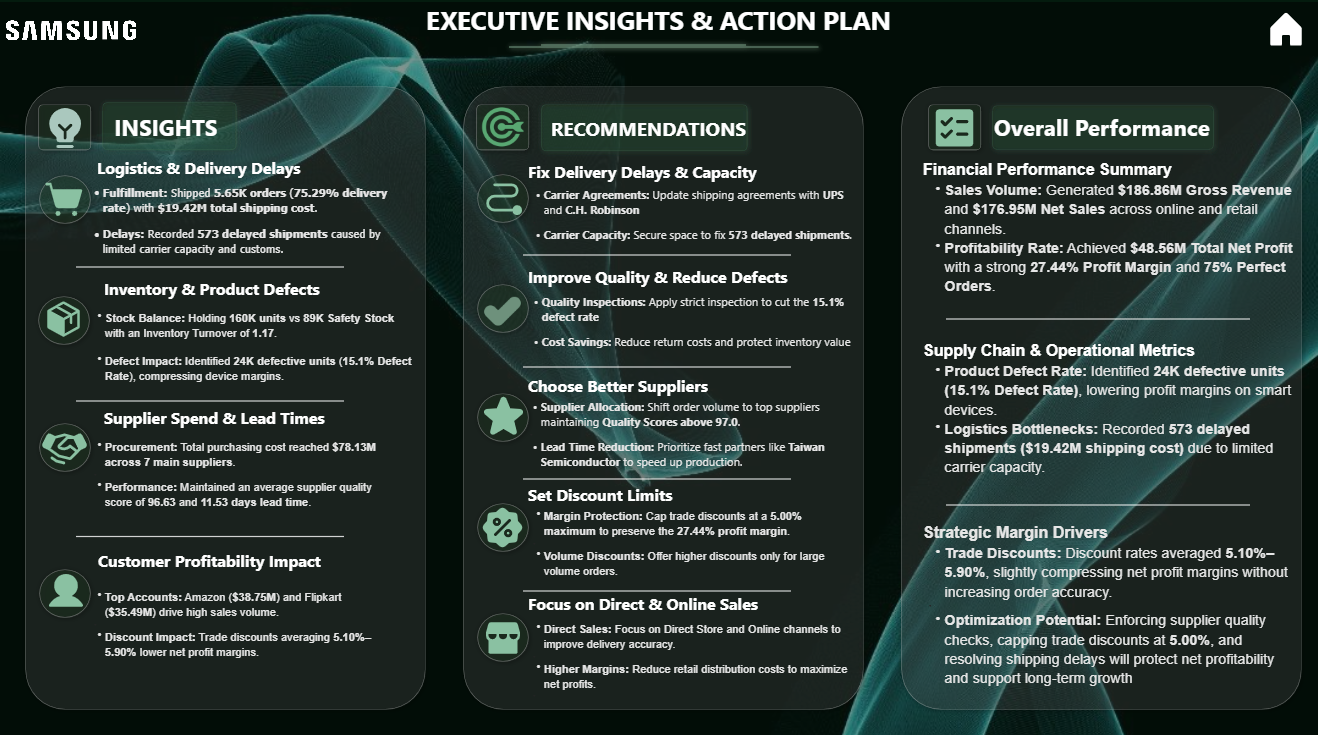

The page's visual inventory and layout, read from the dashboard file:
{"tool":"powerbi","page":{"name":"Insights","canvas":[2200,1235],"ordinal":6},"visuals":[{"type":"image","box":[0,11.7,2200,1223.3],"z":0},{"type":"image","box":[0,0,240,118.6],"z":1000},{"type":"textbox","box":[711.7,11.7,911.7,71.7],"z":2000},{"type":"shape","box":[841.7,11.7,532.9,150],"z":3000},{"type":"shape","box":[35,143.3,685,1056.7],"z":4000},{"type":"shape","box":[1495,143.3,685,1056.7],"z":5000},{"type":"shape","box":[765,143.3,685,1056.7],"z":6000},{"type":"shape","box":[56.5,172.9,105.7,94.3],"z":7000},{"type":"image","box":[70.8,176.7,76.7,90],"z":8000},{"type":"shape","box":[1540,173.3,105.7,94.3],"z":9000},{"type":"shape","box":[786.7,173.3,105.7,94.3],"z":10000},{"type":"image","box":[1545,180,95,83.3],"z":11000},{"type":"image","box":[788.3,183.3,102.9,72.9],"z":12000},{"type":"shape","box":[163.8,170.6,241.4,97.1],"z":13000},{"type":"textbox","box":[158.6,194.3,240,94.3],"z":14000},{"type":"shape","box":[1646.7,175,386.7,91.7],"z":15000},{"type":"shape","box":[895,173.3,361.4,95.7],"z":16000},{"type":"textbox","box":[172.9,194.3,227.1,55.7],"z":17000},{"type":"textbox","box":[919,199.5,328.6,47.1],"z":18000},{"type":"shape","box":[129.2,652.5,446.7,46.7],"z":19000},{"type":"shape","box":[129.2,431.7,446.7,43.3],"z":20000},{"type":"shape","box":[129.2,876.7,446.7,51.7],"z":21000},{"type":"textbox","box":[165,925,375,43.3],"z":22000},{"type":"textbox","box":[148.3,990,503.3,155],"z":23000},{"type":"textbox","box":[163.3,270,353.3,43.3],"z":24000},{"type":"textbox","box":[145,316.7,543.3,143.3],"z":25000},{"type":"textbox","box":[175,471.7,363.3,43.3],"z":26000},{"type":"textbox","box":[148.3,525,540,151.7],"z":27000},{"type":"textbox","box":[175,686.7,375,81.7],"z":28000},{"type":"textbox","box":[148.3,740,523.3,160],"z":29000},{"type":"textbox","box":[881.7,276.7,408.3,48.3],"z":30000},{"type":"textbox","box":[880,320,543.3,133.3],"z":31000},{"type":"shape","box":[873.3,918.3,446.7,150],"z":32000},{"type":"shape","box":[873.3,731.7,446.7,150],"z":33000},{"type":"shape","box":[873.3,545,446.7,150],"z":34000},{"type":"shape","box":[873.3,358.3,446.7,150],"z":35000},{"type":"textbox","box":[881.3,451.7,446.7,43.3],"z":36000},{"type":"textbox","box":[877,497.9,570,136.7],"z":37000},{"type":"textbox","box":[881.3,633.3,325,43.3],"z":38000},{"type":"textbox","box":[875,673.3,560,131.7],"z":39000},{"type":"textbox","box":[881.3,815,278.3,43.3],"z":40000},{"type":"textbox","box":[880,855,540,143.3],"z":41000},{"type":"textbox","box":[881.3,996.7,401.7,43.3],"z":42000},{"type":"textbox","box":[880,1043.3,536.7,156.7],"z":43000},{"type":"textbox","box":[1658.3,195,375,75],"z":44000},{"type":"textbox","box":[1540,276.7,621.7,273.3],"z":45000},{"type":"shape","box":[1578.3,466.7,506.7,146.7],"z":46000},{"type":"textbox","box":[1540,578.3,628.3,241.7],"z":47000},{"type":"shape","box":[1578.3,776.7,506.7,146.7],"z":48000},{"type":"shape","box":[58.3,291.7,103.3,98.3],"z":49000},{"type":"image","box":[75,301.7,68.3,78.3],"z":50000},{"type":"shape","box":[56.7,493.3,103.3,98.3],"z":51000},{"type":"image","box":[70,506.7,75,66.7],"z":52000},{"type":"shape","box":[58.3,948.3,103.3,98.3],"z":53000},{"type":"shape","box":[58.3,705,103.3,98.3],"z":54000},{"type":"image","box":[71.7,716.7,75,75],"z":55000},{"type":"image","box":[76.7,958.3,70,70],"z":56000},{"type":"shape","box":[788.7,1021.7,103.3,98.3],"z":57000},{"type":"shape","box":[788.7,838.7,103.3,98.3],"z":58000},{"type":"shape","box":[788.7,655.8,103.3,98.3],"z":59000},{"type":"shape","box":[788.7,472.9,103.3,98.3],"z":60000},{"type":"shape","box":[788.7,290,103.3,98.3],"z":61000},{"type":"image","box":[805,300,75,75],"z":62000},{"type":"image","box":[803.3,665,75,75],"z":63000},{"type":"image","box":[801.7,490,75,75],"z":64000},{"type":"image","box":[801.7,850,75,75],"z":65000},{"type":"image","box":[805,1036.7,70,70],"z":66000},{"type":"shape","box":[895,11.7,358.3,143.3],"z":67000},{"type":"textbox","box":[1540,881.7,628.3,318.3],"z":68000},{"type":"image","box":[2110,0,70,115],"z":69000}]}

Visuals, with their boxes in screenshot pixels (x1, y1, x2, y2), scaled from the page's 2200x1235 canvas onto the 1318x735 screenshot:
image: select_region(0, 7, 1317, 734)
image: select_region(0, 0, 144, 71)
textbox: select_region(426, 7, 973, 50)
shape: select_region(504, 7, 824, 96)
shape: select_region(21, 85, 431, 714)
shape: select_region(896, 85, 1306, 714)
shape: select_region(458, 85, 869, 714)
shape: select_region(34, 103, 97, 159)
image: select_region(42, 105, 88, 159)
shape: select_region(923, 103, 986, 159)
shape: select_region(471, 103, 535, 159)
image: select_region(926, 107, 983, 157)
image: select_region(472, 109, 534, 152)
shape: select_region(98, 102, 243, 159)
textbox: select_region(95, 116, 239, 172)
shape: select_region(987, 104, 1218, 159)
shape: select_region(536, 103, 753, 160)
textbox: select_region(104, 116, 240, 149)
textbox: select_region(551, 119, 747, 147)
shape: select_region(77, 388, 345, 416)
shape: select_region(77, 257, 345, 283)
shape: select_region(77, 522, 345, 553)
textbox: select_region(99, 551, 324, 576)
textbox: select_region(89, 589, 390, 681)
textbox: select_region(98, 161, 309, 186)
textbox: select_region(87, 188, 412, 274)
textbox: select_region(105, 281, 322, 306)
textbox: select_region(89, 312, 412, 403)
textbox: select_region(105, 409, 330, 457)
textbox: select_region(89, 440, 402, 536)
textbox: select_region(528, 165, 773, 193)
textbox: select_region(527, 190, 853, 270)
shape: select_region(523, 547, 791, 636)
shape: select_region(523, 435, 791, 525)
shape: select_region(523, 324, 791, 414)
shape: select_region(523, 213, 791, 303)
textbox: select_region(528, 269, 796, 295)
textbox: select_region(525, 296, 867, 378)
textbox: select_region(528, 377, 723, 403)
textbox: select_region(524, 401, 860, 479)
textbox: select_region(528, 485, 695, 511)
textbox: select_region(527, 509, 851, 594)
textbox: select_region(528, 593, 769, 619)
textbox: select_region(527, 621, 849, 714)
textbox: select_region(993, 116, 1218, 161)
textbox: select_region(923, 165, 1295, 327)
shape: select_region(946, 278, 1249, 365)
textbox: select_region(923, 344, 1299, 488)
shape: select_region(946, 462, 1249, 550)
shape: select_region(35, 174, 97, 232)
image: select_region(45, 180, 86, 226)
shape: select_region(34, 294, 96, 352)
image: select_region(42, 302, 87, 341)
shape: select_region(35, 564, 97, 623)
shape: select_region(35, 420, 97, 478)
image: select_region(43, 427, 88, 471)
image: select_region(46, 570, 88, 612)
shape: select_region(473, 608, 534, 667)
shape: select_region(473, 499, 534, 558)
shape: select_region(473, 390, 534, 449)
shape: select_region(473, 281, 534, 340)
shape: select_region(473, 173, 534, 231)
image: select_region(482, 179, 527, 223)
image: select_region(481, 396, 526, 440)
image: select_region(480, 292, 525, 336)
image: select_region(480, 506, 525, 551)
image: select_region(482, 617, 524, 659)
shape: select_region(536, 7, 751, 92)
textbox: select_region(923, 525, 1299, 714)
image: select_region(1264, 0, 1306, 68)
